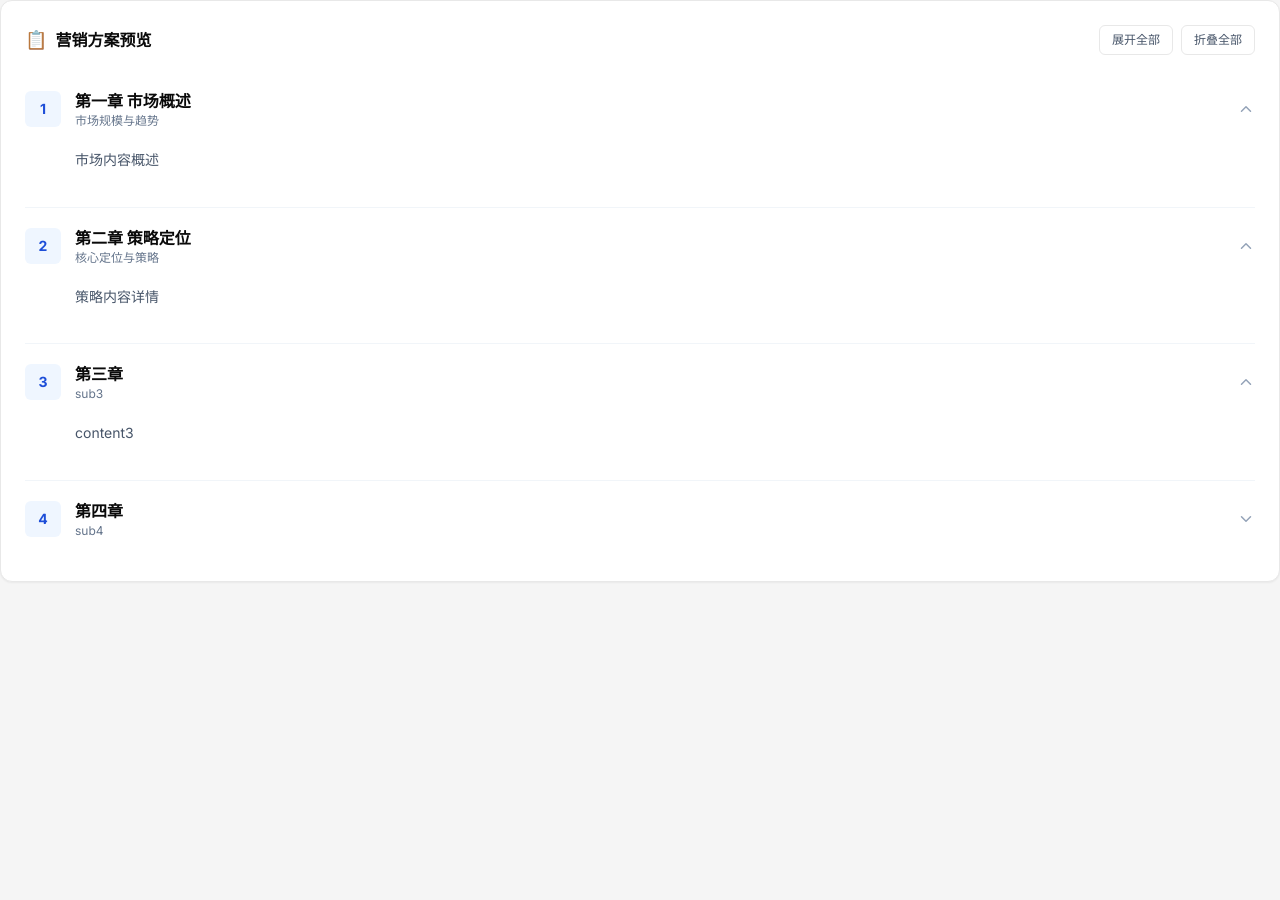
PlanPreview › expand all opens every chapter
The width and height of the screenshot is (1280, 900).
Expected: the text "content4" is not shown
Click the button "展开全部" at (1136, 40), box [1099,25,1173,55]
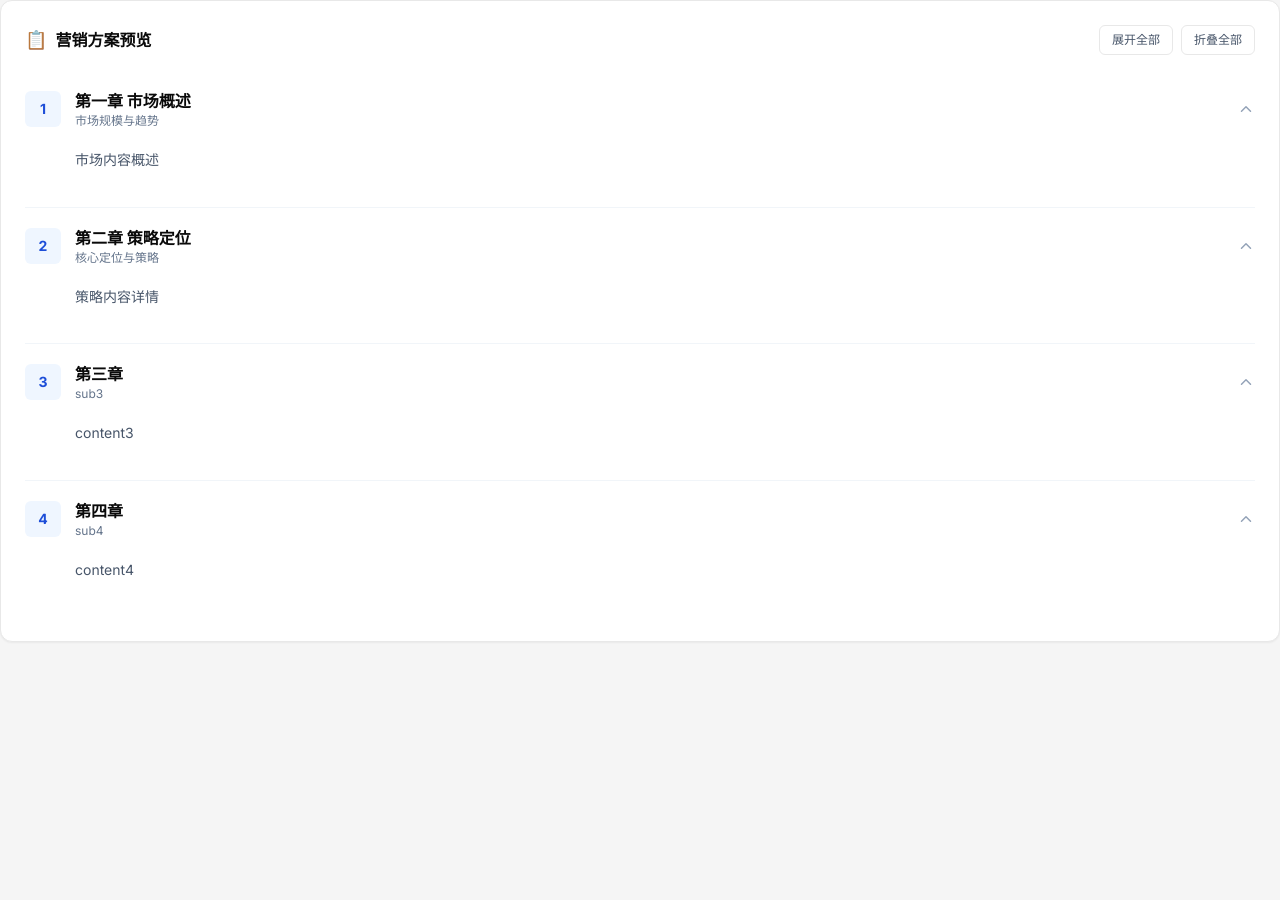
Expected: the text "content4" is shown, [75,561,134,578]
